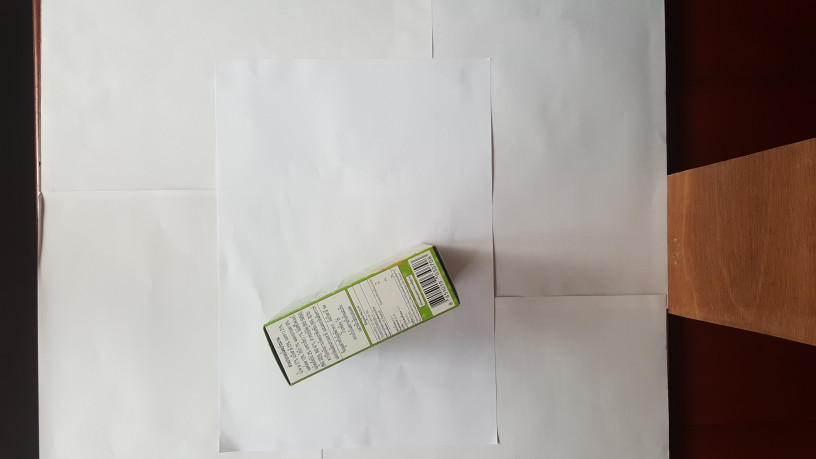collon-matcha: (260, 243, 462, 384)
